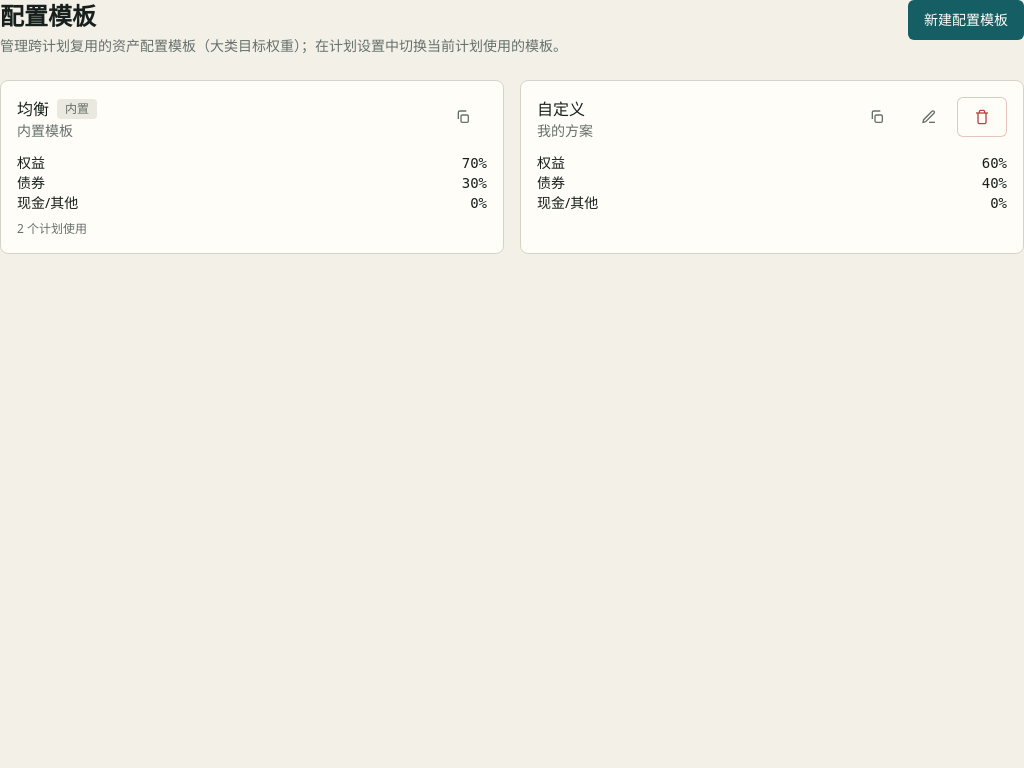
ScenariosPage › edits only asset-class weights (no region inputs) in scenario modal
Click the button named "编辑配置模板": coordinates (929, 117) [905,97,953,137]
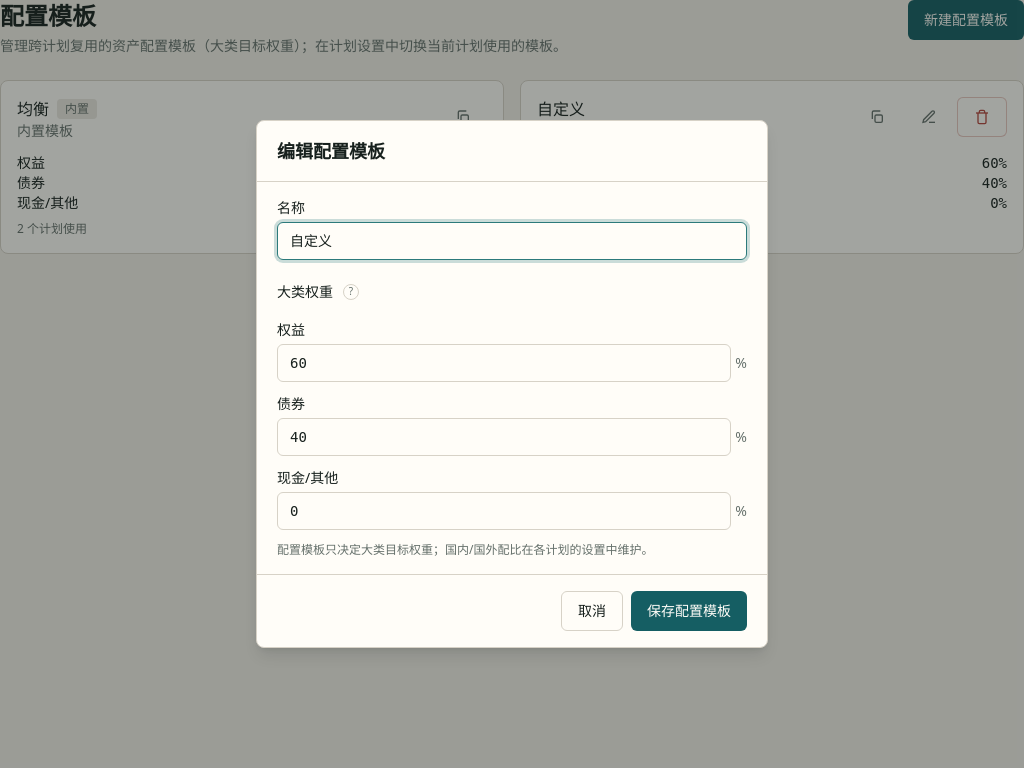
expect the text "大类权重" is shown: met, box [277,282,333,301]
expect the number of fields with test id "percent-input" is 3: met, box [277,344,731,382]; [277,418,731,456]; [277,492,731,530]
